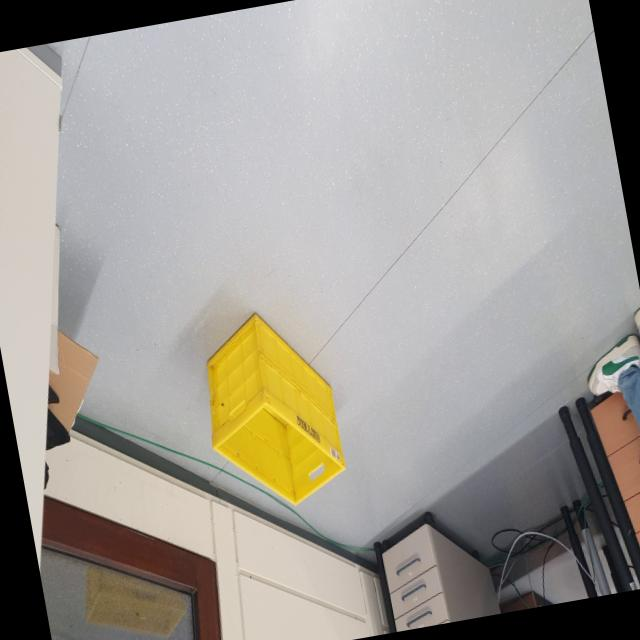box: (184, 296, 358, 531)
